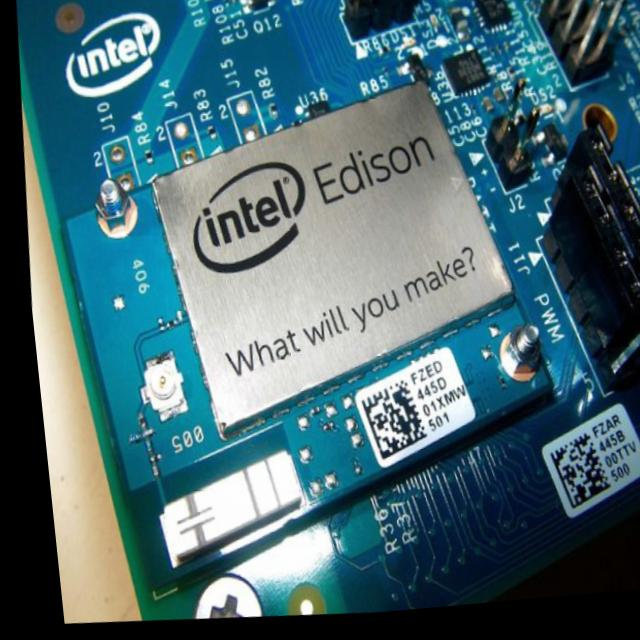datamatrix: (348, 384, 422, 471), (536, 441, 604, 522)
